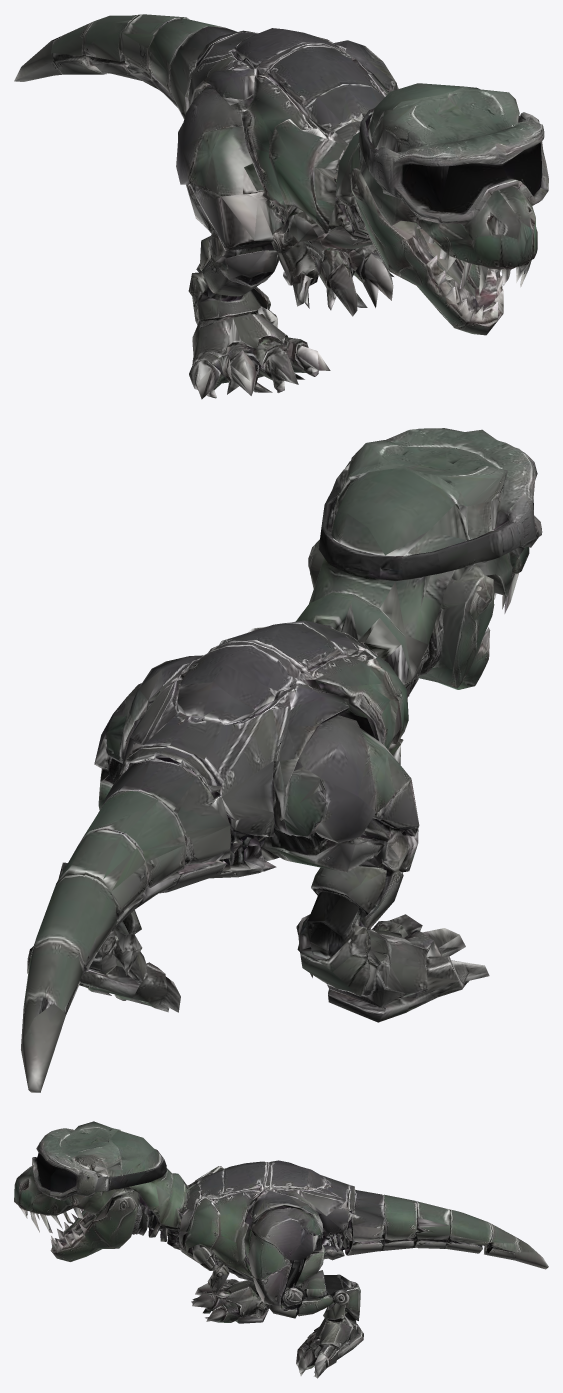
File: dino_tyranno_4.glb
3 views of the same model, one above another, from view 1: azimuth 30°, elevation 25°; view 2: azimuth 150°, elevation 25°; view 3: azimuth 270°, elevation 25° (orthographic). The views are drawn at different scales.
Visible parts, largest first — view 1: mesh_node; view 2: mesh_node; view 3: mesh_node.
Boxes of the visible parts, bbox=[...] form: mesh_node: bbox=[14, 14, 548, 399]; mesh_node: bbox=[21, 428, 542, 1092]; mesh_node: bbox=[14, 1121, 548, 1378].
Size of the model in its own units: 0.9708 by 1.08 by 2.51.
1 material, 1 textured.
